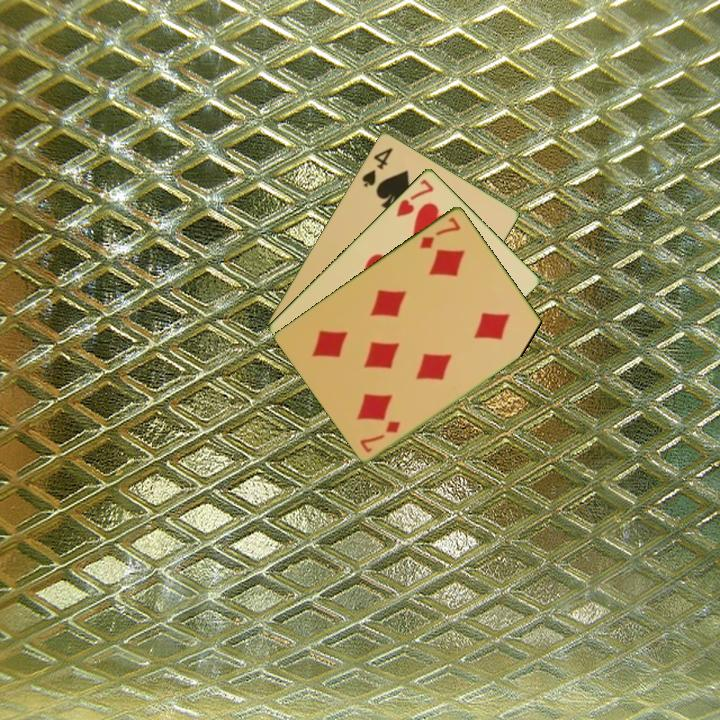4s: (358, 143, 396, 190)
7d: (356, 417, 403, 456), (416, 213, 464, 251)
7h: (393, 175, 437, 220)
